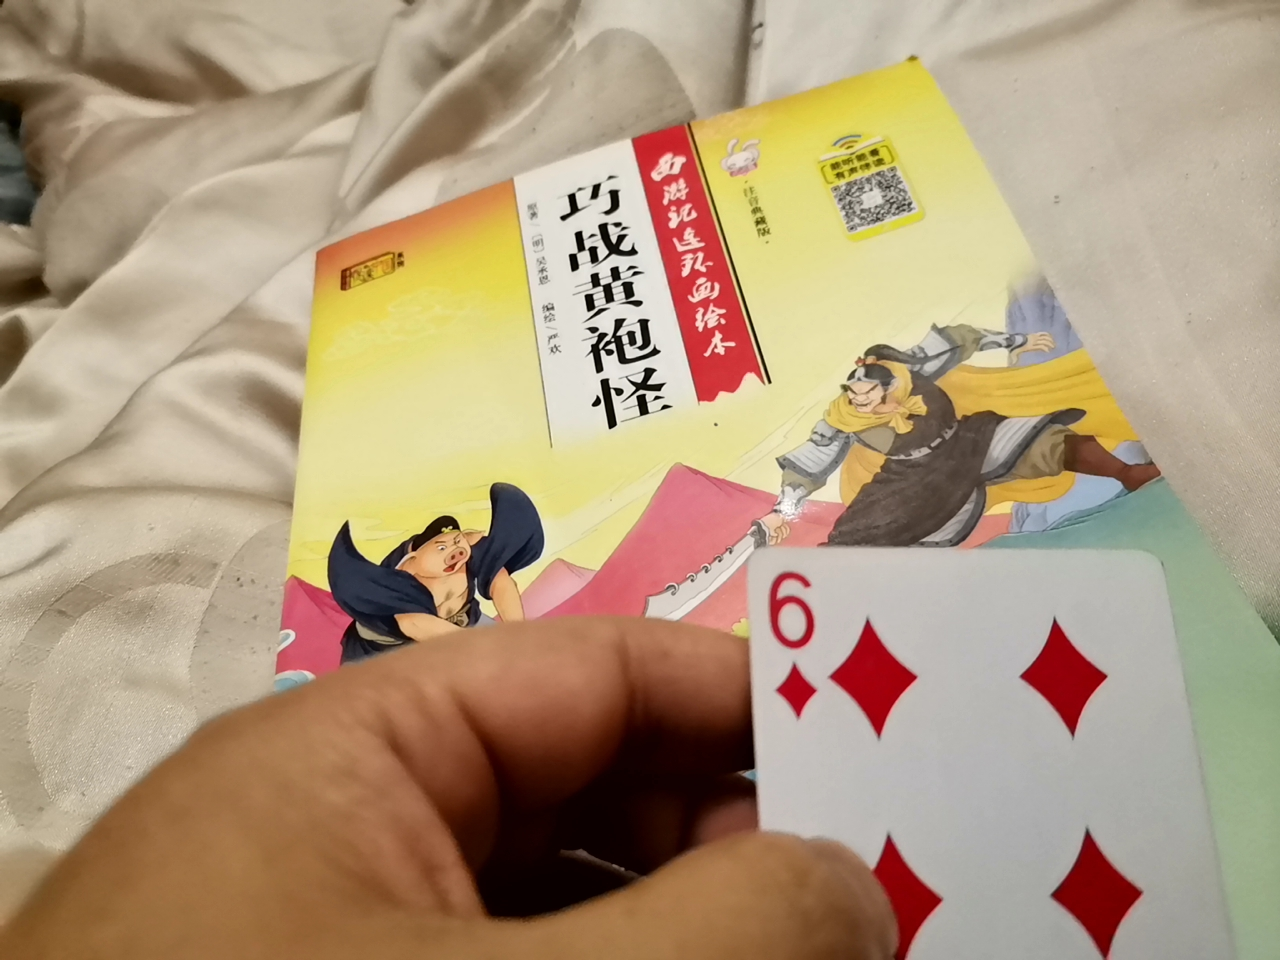fk 6: (730, 523, 1199, 955)
